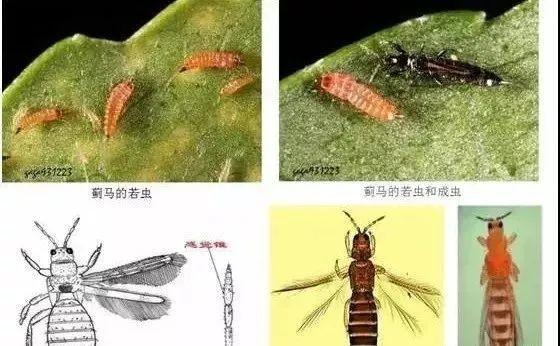Phlaeothripidae: (271, 210, 444, 346), (359, 40, 515, 86)
